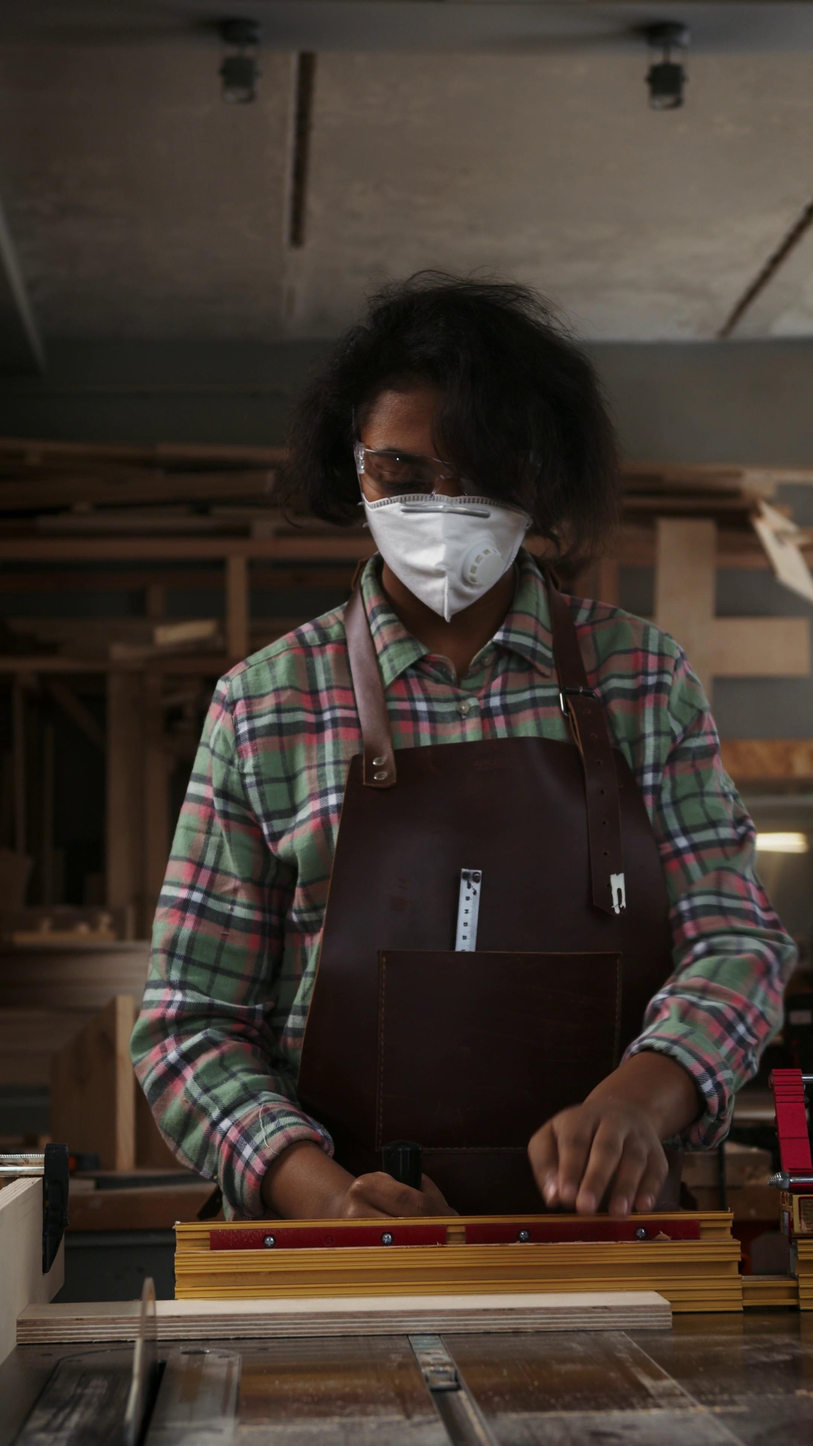mask: (359, 493, 531, 624)
person: (129, 271, 803, 1227)
